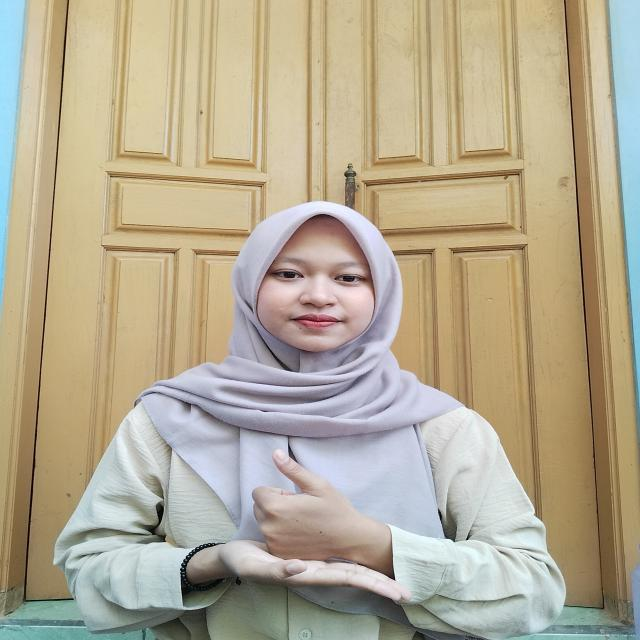cantik: (192, 438, 410, 614)
